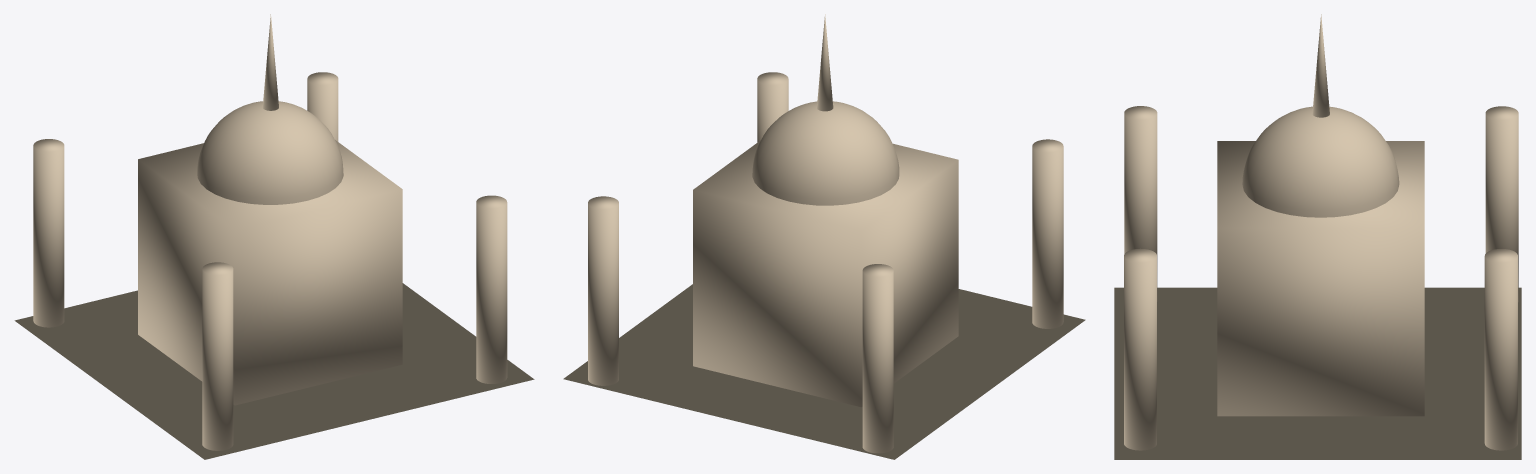
The model's file is Taj.fbx.
The picture shows the model from 3 angles, left to right: view 1: azimuth 30°, elevation 25°; view 2: azimuth 150°, elevation 25°; view 3: azimuth 270°, elevation 25°; orthographic projection. The views are drawn at different scales.
Parts seen in each view (by area): view 1: main hall, base, top sphere, pillar 4, pillar 3, pillar 1, pillar 2, top cone; view 2: main hall, base, top sphere, pillar 4, pillar 3, pillar 2, pillar 1, top cone; view 3: main hall, base, top sphere, pillar 2, pillar 1, pillar 4, pillar 3, top cone.
Boxes of the visible parts, x1,y1,x2,y2 form: main hall: (138, 140, 402, 405); base: (14, 283, 534, 459); top sphere: (197, 101, 343, 204); pillar 4: (202, 262, 233, 450); pillar 3: (33, 139, 64, 327); pillar 1: (476, 195, 507, 383); pillar 2: (307, 72, 338, 141); top cone: (262, 14, 278, 110); main hall: (693, 140, 958, 407); base: (563, 284, 1085, 459); top sphere: (752, 101, 899, 205); pillar 4: (1032, 139, 1063, 328); pillar 3: (862, 264, 893, 453); pillar 2: (588, 196, 618, 385); pillar 1: (757, 72, 788, 142); top cone: (817, 14, 833, 111); main hall: (1217, 141, 1424, 416); base: (1114, 287, 1521, 459); top sphere: (1242, 106, 1399, 217); pillar 2: (1484, 249, 1517, 450); pillar 1: (1124, 248, 1156, 450); pillar 4: (1124, 106, 1157, 301); pillar 3: (1485, 106, 1518, 302); top cone: (1312, 14, 1329, 117).
Bounding box in the file's own units: 393 × 382 × 393.
